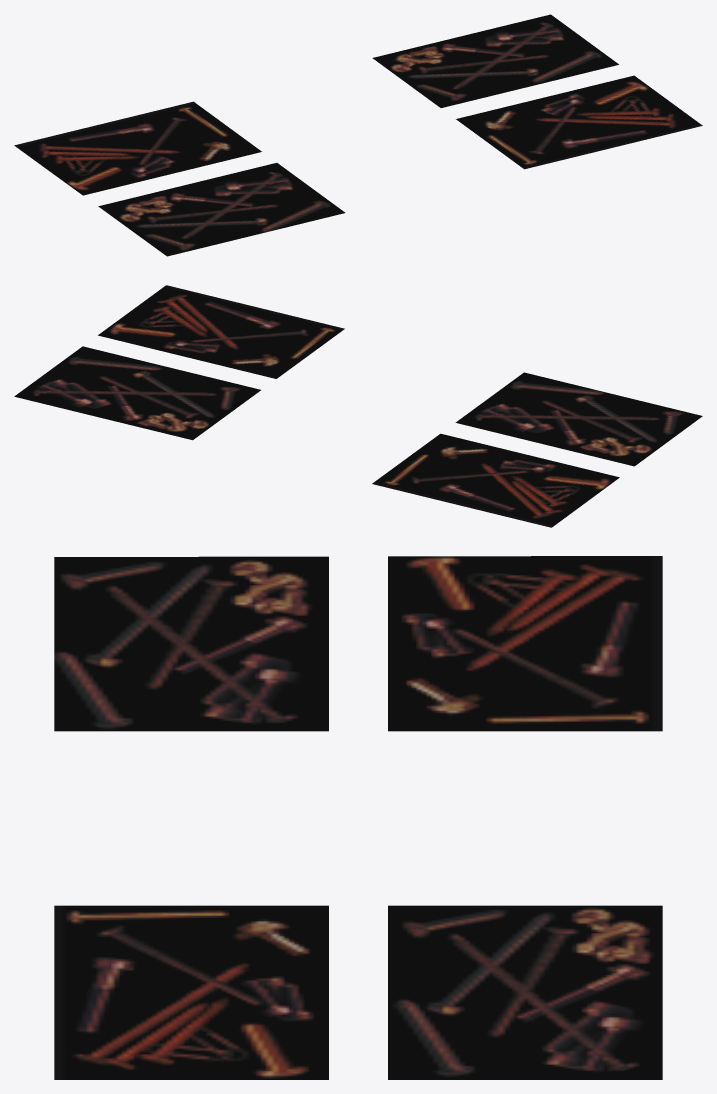
The model's file is M_Home_Garden_ToolBox_SheetB.fbx.
3 renders of one model, top to bottom at view 1: azimuth 30°, elevation 25°; view 2: azimuth 150°, elevation 25°; view 3: azimuth 270°, elevation 25°, orthographic. The views are drawn at different scales.
Parts seen in each view (by area): view 1: M_Home_Garden_ToolBox_SheetB; view 2: M_Home_Garden_ToolBox_SheetB; view 3: M_Home_Garden_ToolBox_SheetB.
Part boxes in pixels (x1,y1,x2,y2): M_Home_Garden_ToolBox_SheetB: (14,14,702,256); M_Home_Garden_ToolBox_SheetB: (14,285,702,527); M_Home_Garden_ToolBox_SheetB: (54,556,662,1079).
Bounding box in the file's own units: 60.65 × 3.81e-06 × 29.77.
